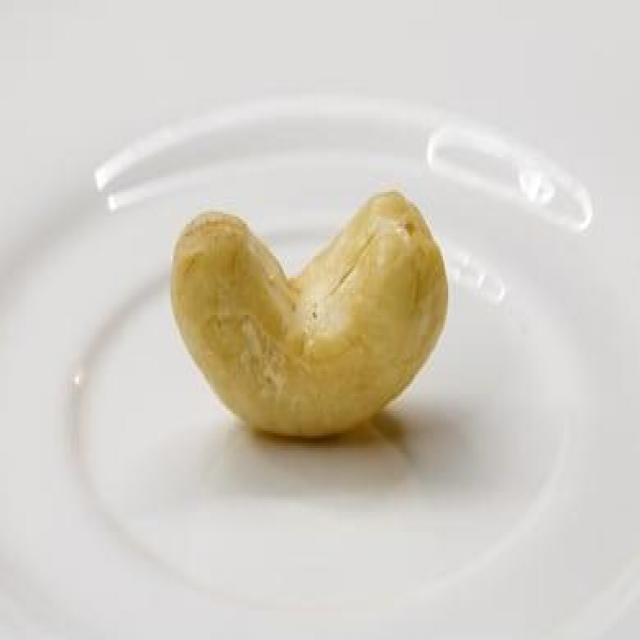cashew: (164, 189, 496, 456)
